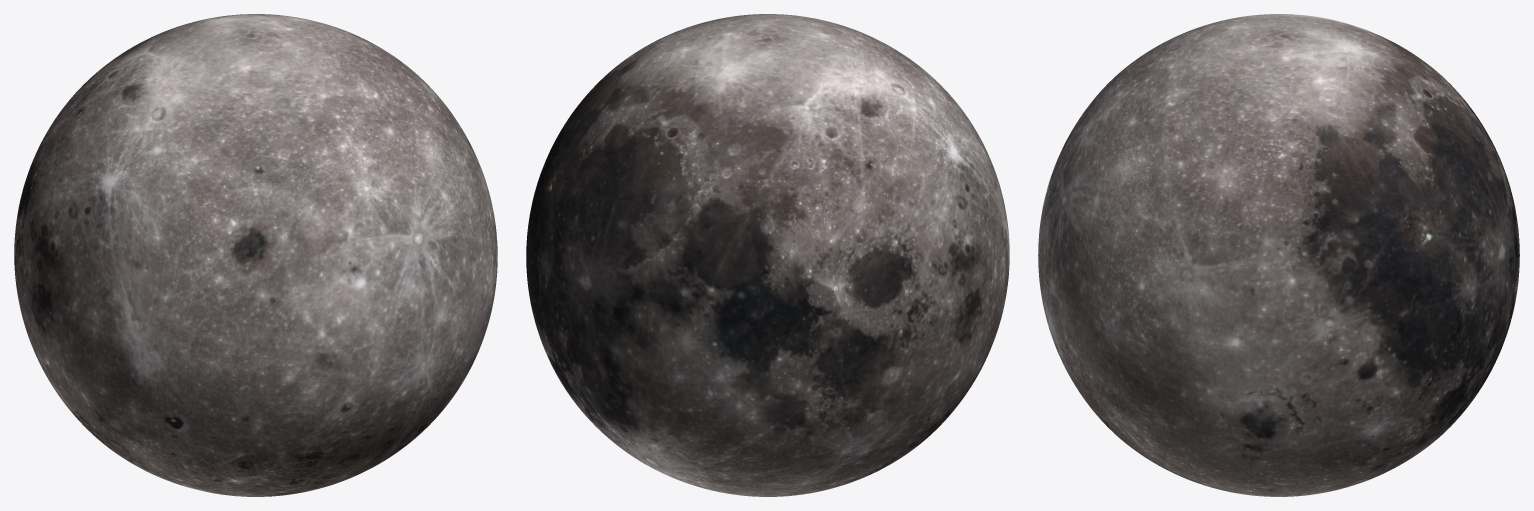
Rendered from moon_small.mobile.glb.
The picture shows the model from 3 angles, left to right: view 1: azimuth 30°, elevation 25°; view 2: azimuth 150°, elevation 25°; view 3: azimuth 270°, elevation 25°; orthographic projection.
Visible parts, largest first — view 1: Cube; view 2: Cube; view 3: Cube.
Boxes of the visible parts, x1,y1,x2,y2 form: Cube: [14, 14, 497, 496]; Cube: [526, 14, 1009, 496]; Cube: [1038, 14, 1519, 496].
Size of the model in its own units: 2.54 by 2.54 by 2.54.
1 material, 1 textured.
